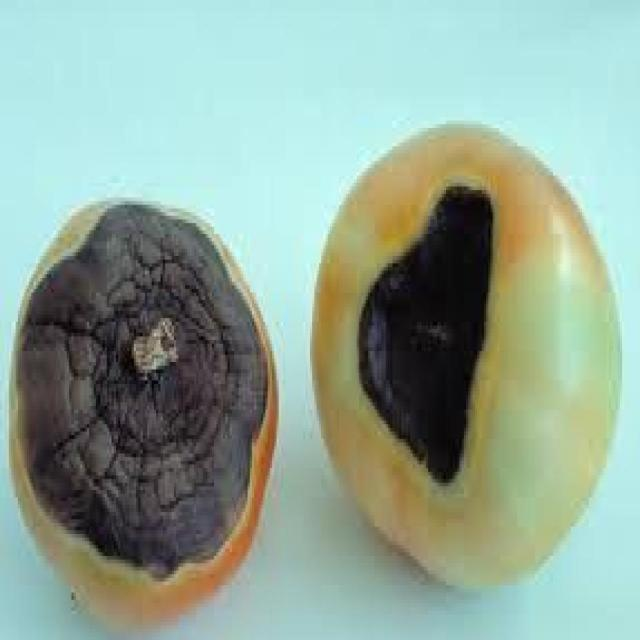Blossom End Rot Fruit: (94, 207, 282, 260)
